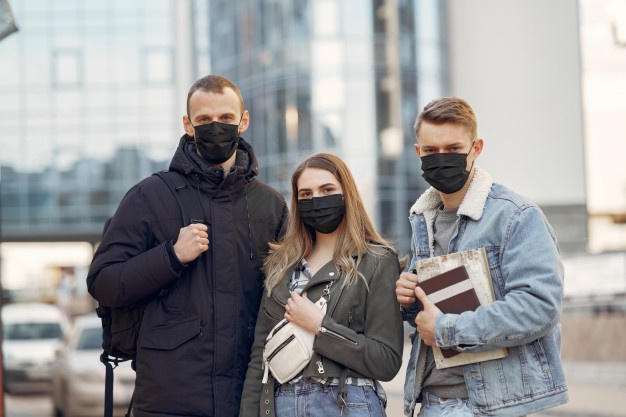with_mask: (419, 126, 475, 193), (188, 98, 242, 164), (295, 174, 348, 234)
